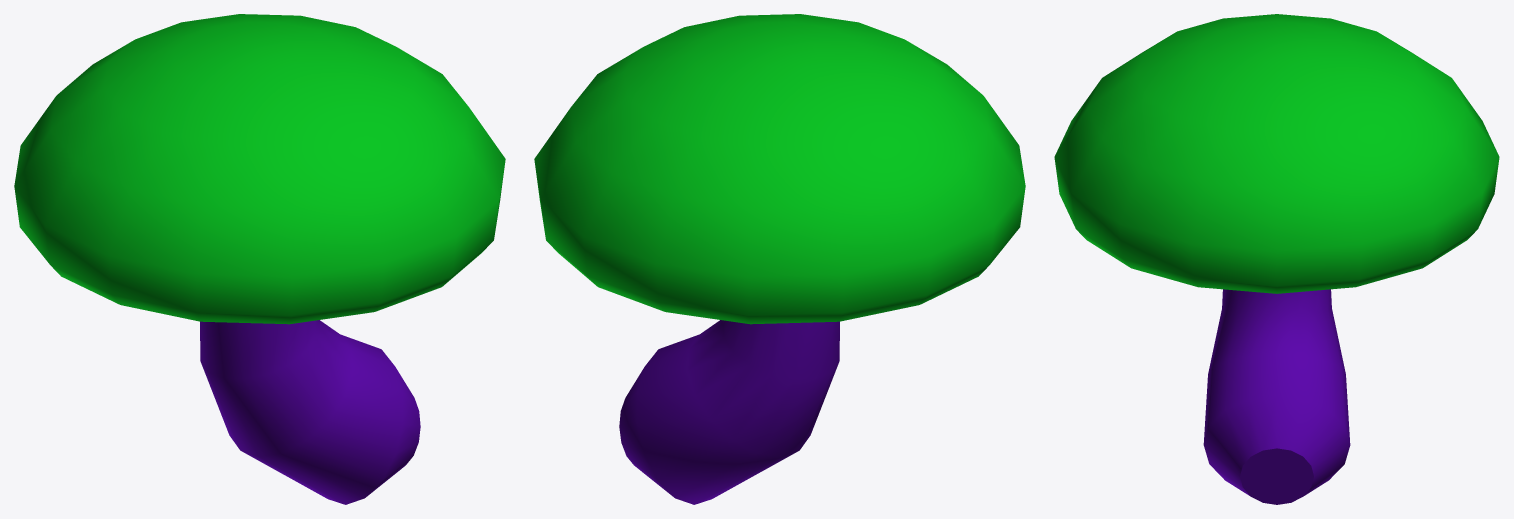
The model's file is Mushroom_Pyogo.fbx.
The picture shows the model from 3 angles, left to right: view 1: azimuth 30°, elevation 25°; view 2: azimuth 150°, elevation 25°; view 3: azimuth 270°, elevation 25°; orthographic projection. The views are drawn at different scales.
Parts seen in each view (by area): view 1: Mushroom_Pyogo; view 2: Mushroom_Pyogo; view 3: Mushroom_Pyogo.
Boxes of the visible parts, x1,y1,x2,y2 form: Mushroom_Pyogo: (14, 14, 505, 504); Mushroom_Pyogo: (534, 14, 1025, 504); Mushroom_Pyogo: (1054, 14, 1499, 504).
Size of the model in its own units: 28.78 by 29.98 by 28.78.
